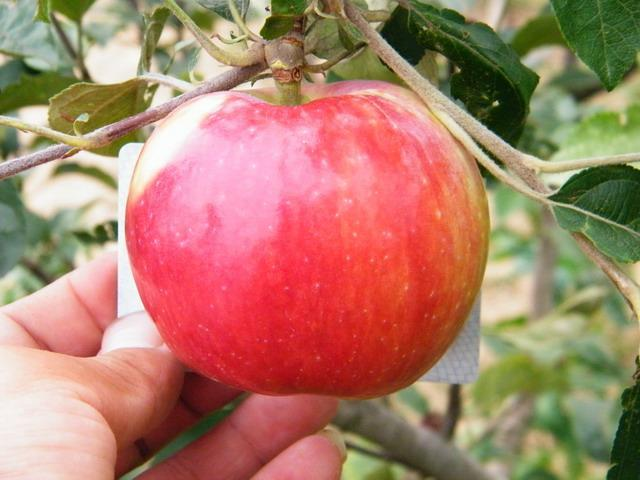apple: (125, 78, 491, 395)
